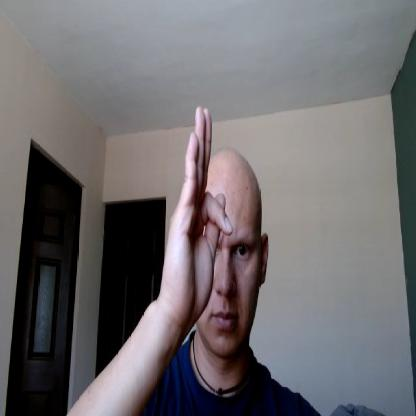F: (160, 104, 232, 328)
